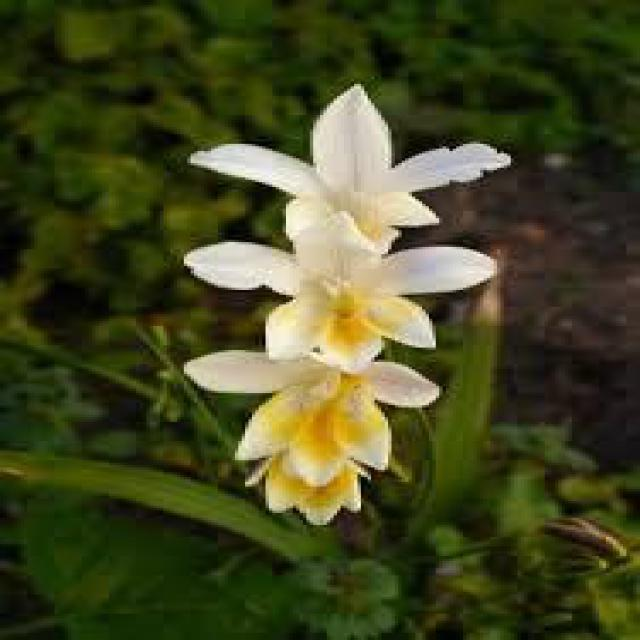freesia: (166, 68, 514, 552)
